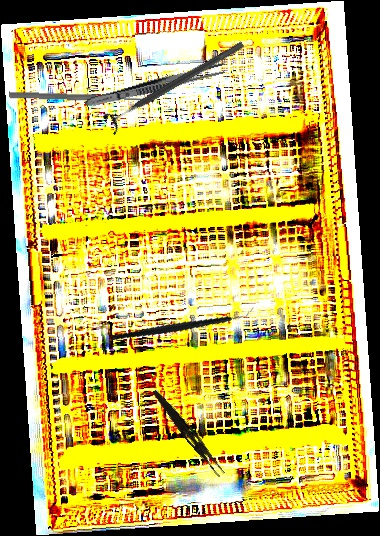Chopper: (110, 281, 256, 366)
Dressing Forceps: (83, 59, 227, 112), (148, 388, 228, 478)
Fixation Ring: (101, 33, 250, 136)
Pusher: (8, 90, 155, 105)
